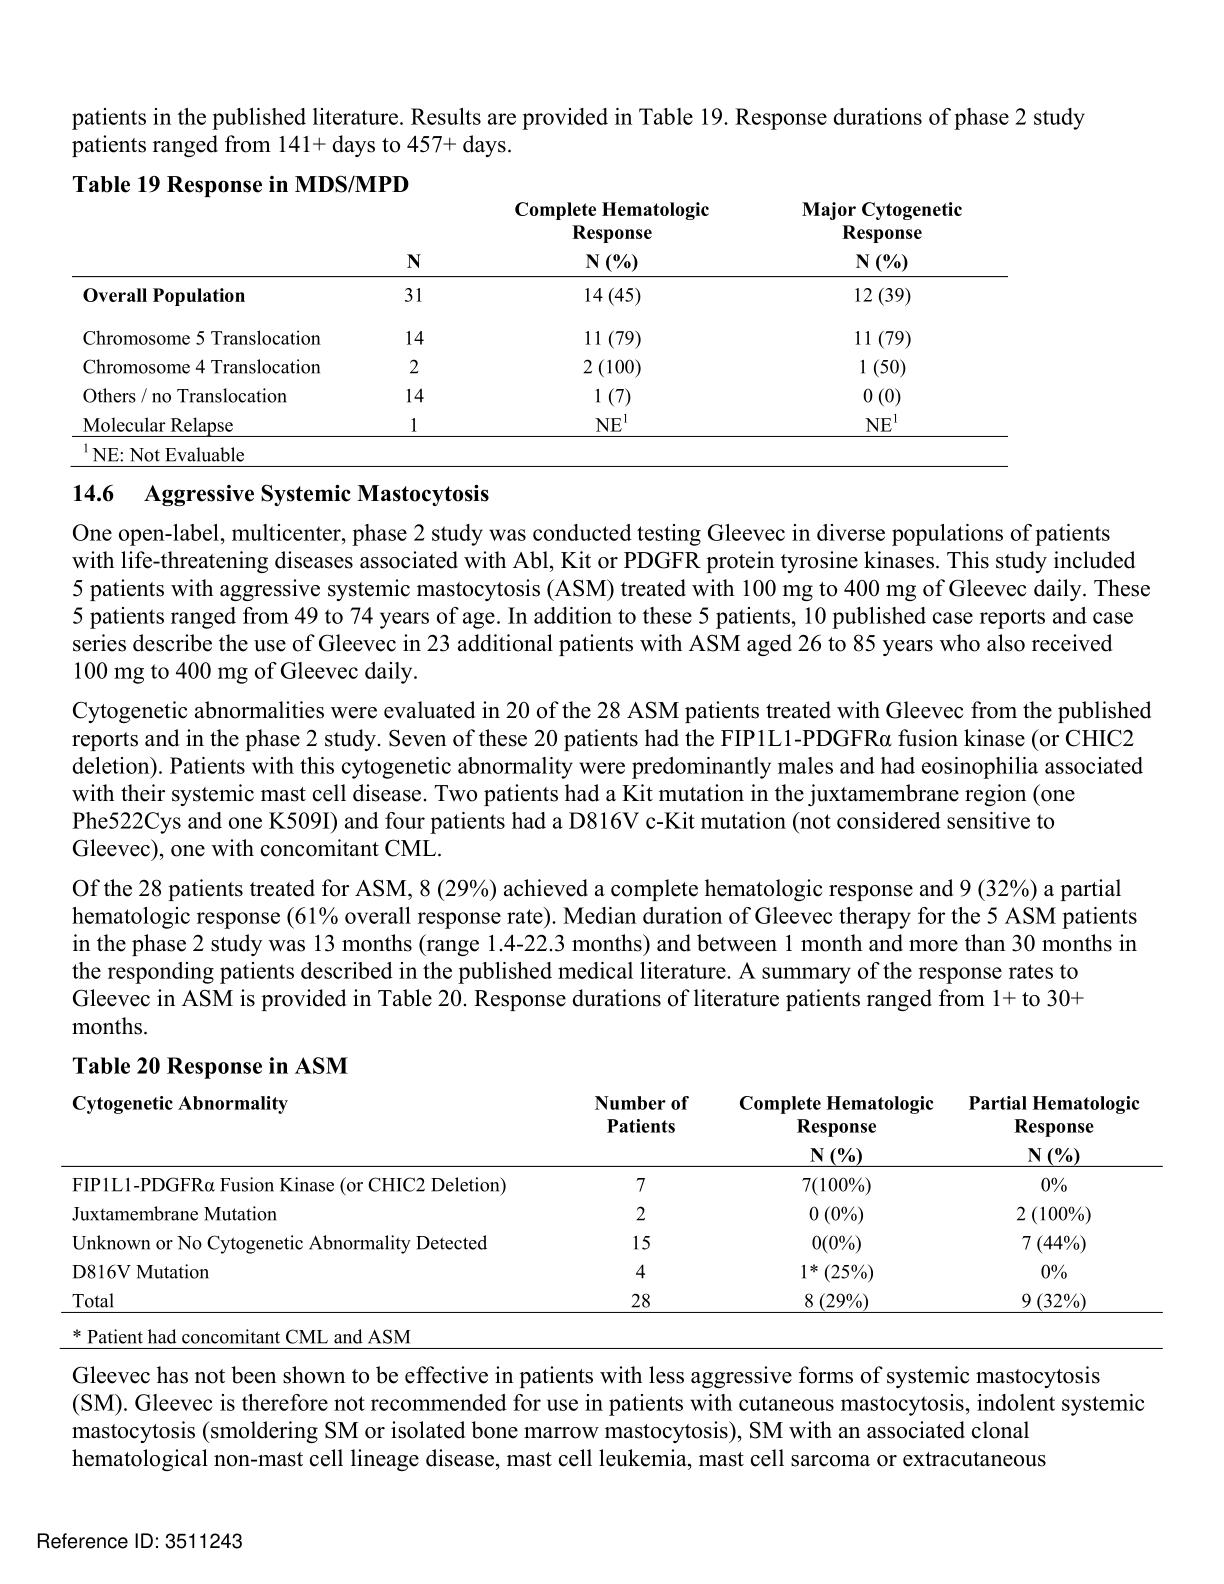partial_lined: (60, 1093, 1165, 1314), (71, 198, 1008, 438)
